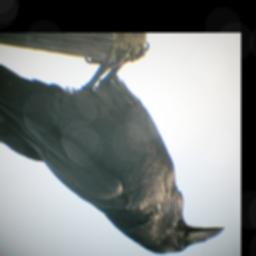Crow: (0, 42, 227, 256)
